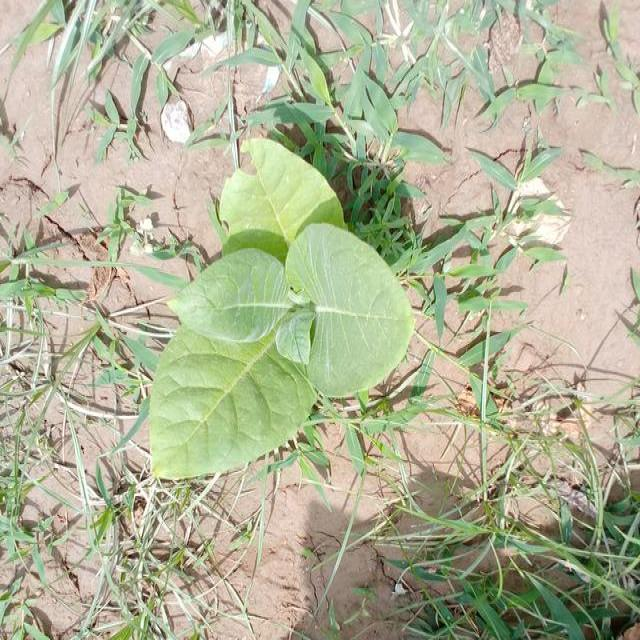crop: (168, 154, 402, 477)
